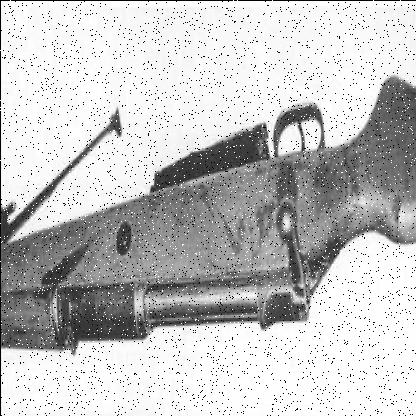rifle: (1, 46, 416, 370)
